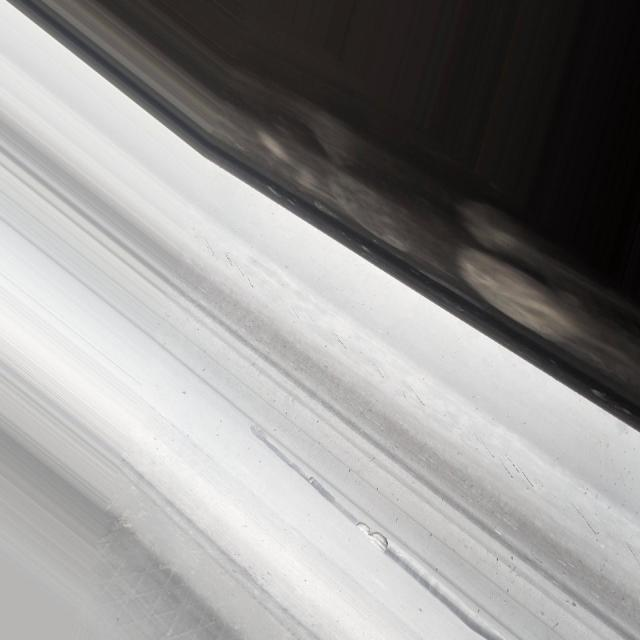Tear: (353, 512, 394, 556)
impact damage: (247, 416, 535, 640)
